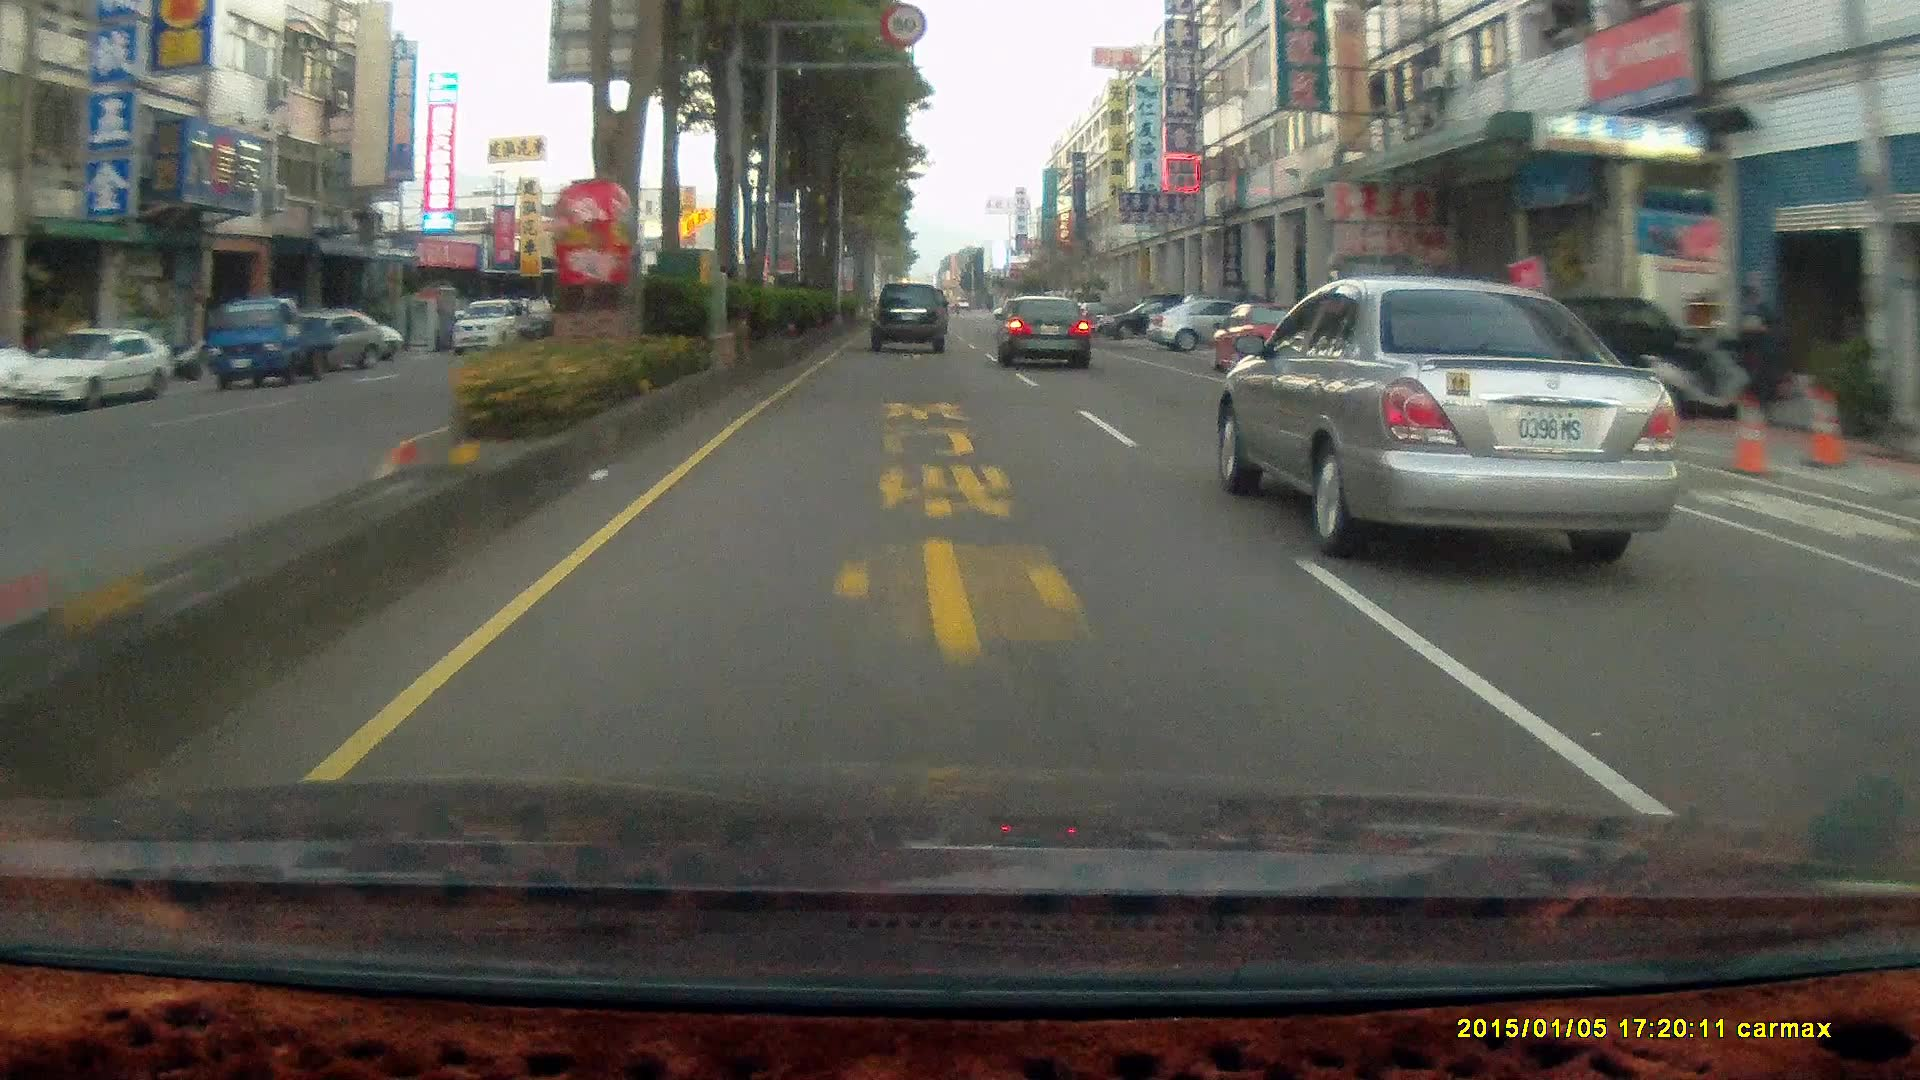vehicle: (1226, 286, 1702, 566), (1474, 291, 1702, 425), (0, 324, 171, 410), (20, 328, 169, 410), (204, 297, 334, 390), (208, 305, 343, 393), (1220, 310, 1332, 392), (1207, 301, 1317, 380), (1145, 295, 1279, 352), (993, 294, 1091, 371), (998, 301, 1095, 377), (266, 313, 382, 373), (869, 282, 951, 357), (866, 284, 947, 353), (450, 301, 524, 356), (1098, 298, 1197, 339), (0, 338, 32, 400)
